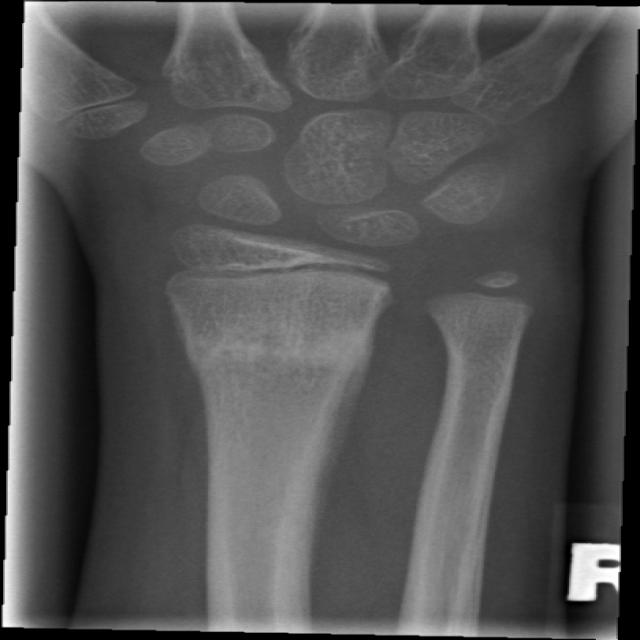radius fracture: (159, 311, 421, 477)
